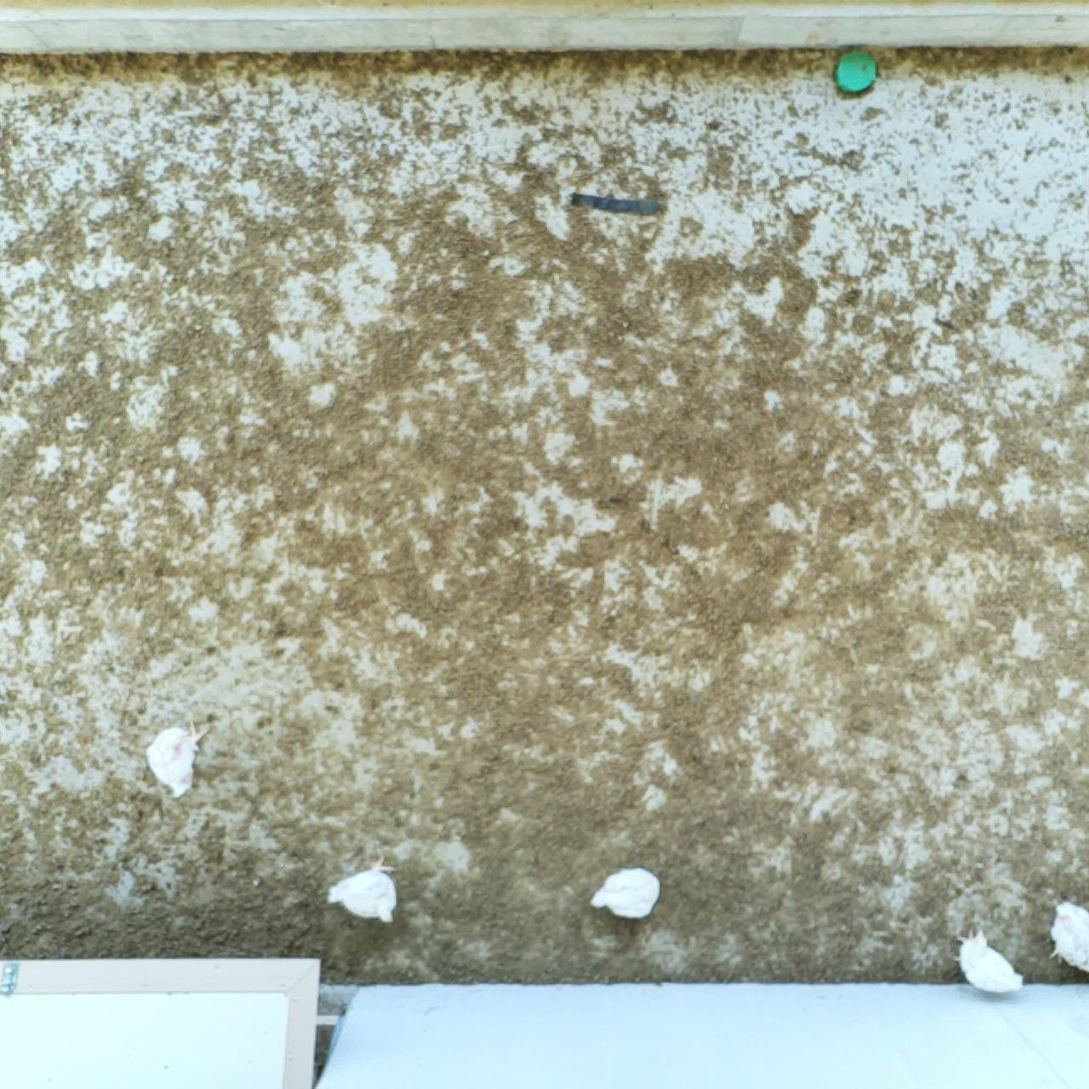chicken: (325, 857, 398, 925), (952, 930, 1026, 996), (149, 721, 207, 797), (588, 866, 663, 923), (1046, 897, 1089, 979)
